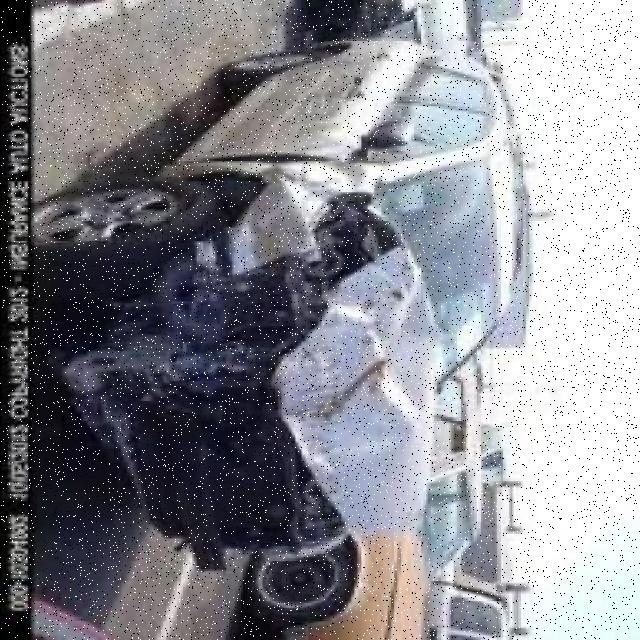damage: (42, 158, 440, 578)
